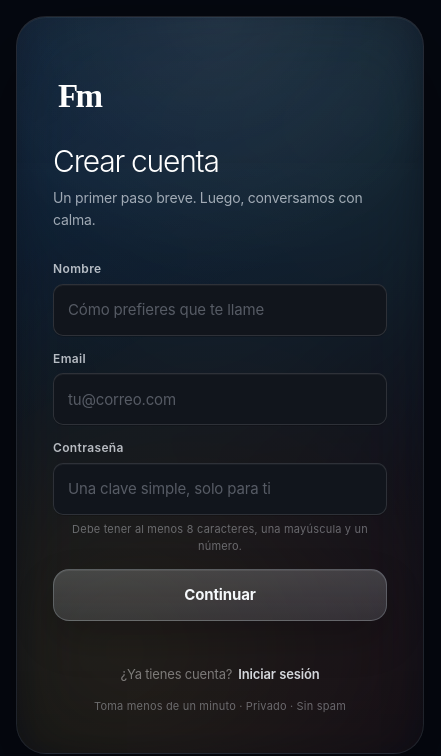
Test: RegisterPage › validates all fields are required
The image size is (441, 756).
Click the button "Continuar".
click(220, 595)  # box 53,569 -> 387,621
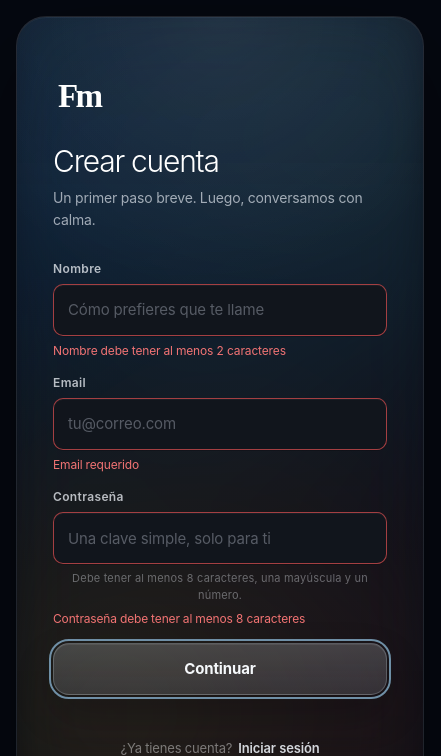
Expected: the text "Nombre debe tener al menos 2 caracteres" is shown, 53,343 -> 286,358
Expected: the text "Email requerido" is shown, 53,457 -> 139,472
